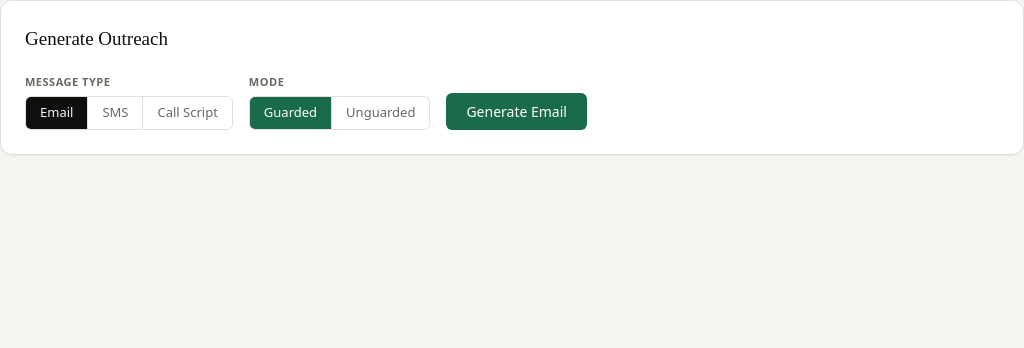
it: GeneratePanel — successful generation › displays the generated text after success
This screenshot has width=1024, height=348.
Click the button "Generate Email" at (517, 111), box [446, 92, 587, 130]
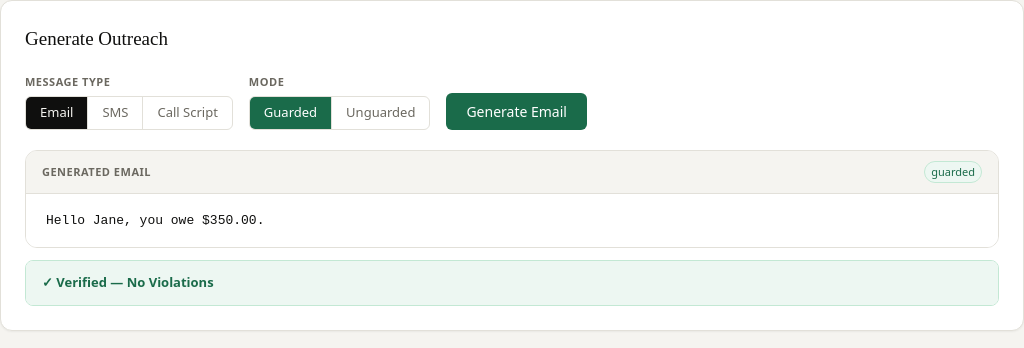
Now the text "Hello Jane, you owe $350.00." is shown, box [46, 213, 264, 228]
